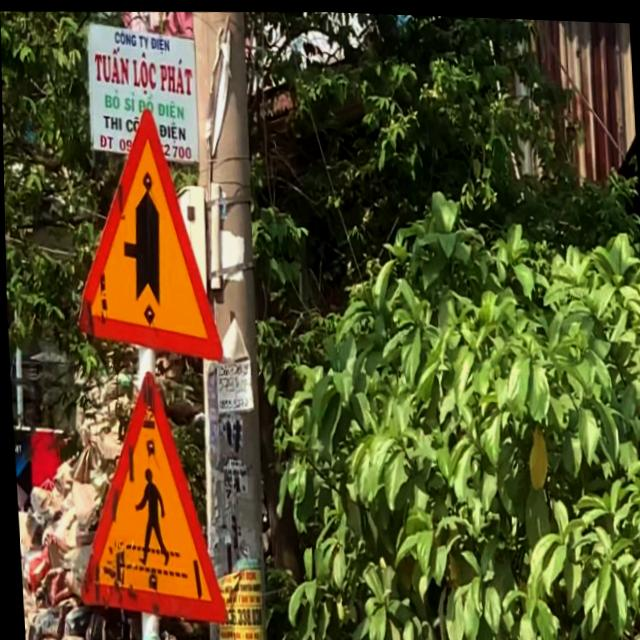Giao nhau voi duong khong uu tien ben trai: (61, 99, 224, 367)
Nguoi di bo cat ngang: (61, 360, 226, 629)
